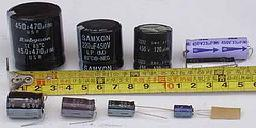Electrolytic-Capacitor: (6, 1, 69, 68), (76, 19, 126, 71), (181, 35, 256, 66), (132, 23, 172, 70), (107, 99, 169, 128), (3, 90, 50, 127), (61, 95, 100, 126), (171, 102, 197, 121)
